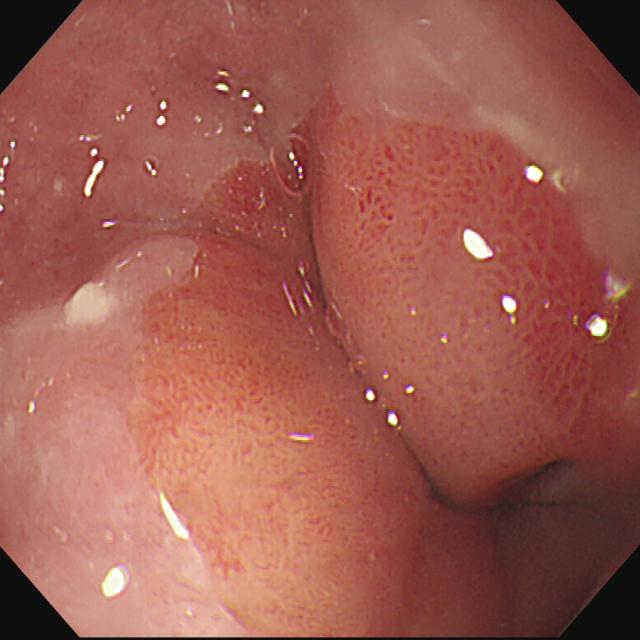A: (164, 325, 339, 450), (507, 199, 600, 406), (355, 126, 443, 247)
J: (66, 281, 111, 328)
T: (270, 132, 313, 200)
U: (160, 492, 190, 541), (83, 148, 106, 200), (463, 227, 495, 263), (2, 141, 18, 213), (101, 565, 130, 601), (587, 315, 612, 343), (502, 295, 520, 326), (215, 69, 233, 93), (526, 164, 545, 186), (156, 100, 168, 128), (387, 413, 402, 432), (366, 388, 378, 404)
